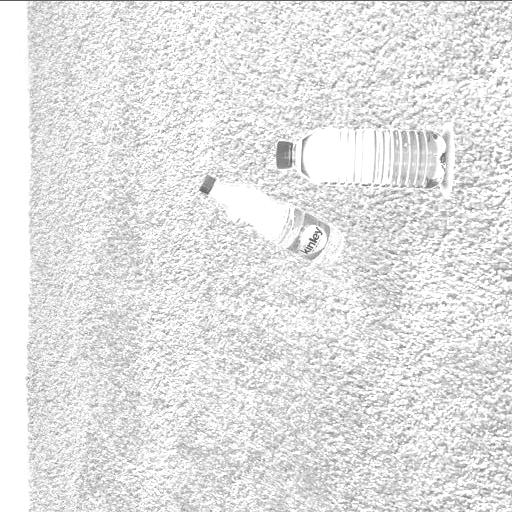bottle: (194, 168, 350, 278), (268, 116, 472, 194)
